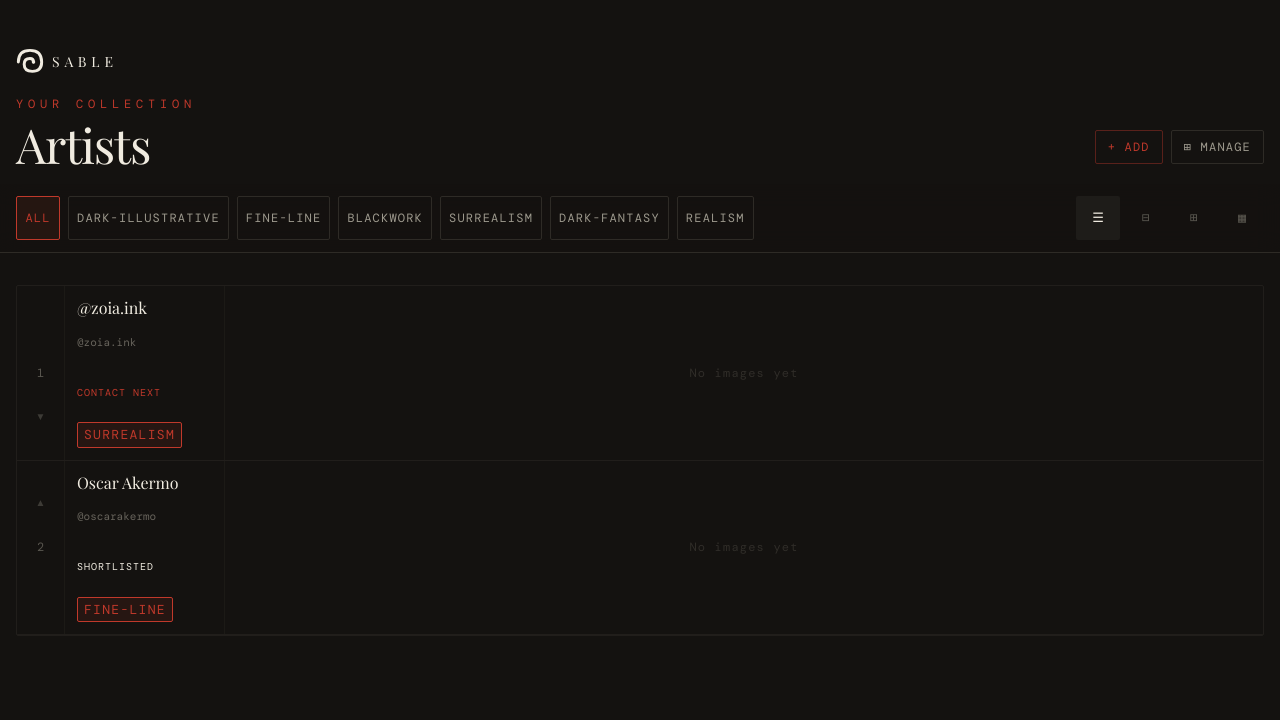
Test: Gallery manage mode › toggles the add-artist form and maintenance table
Expected: the text "Add New Artist" is not shown
Step 1. Click the button "⊞ Manage" → (1217, 147), box [1171,130,1264,164]
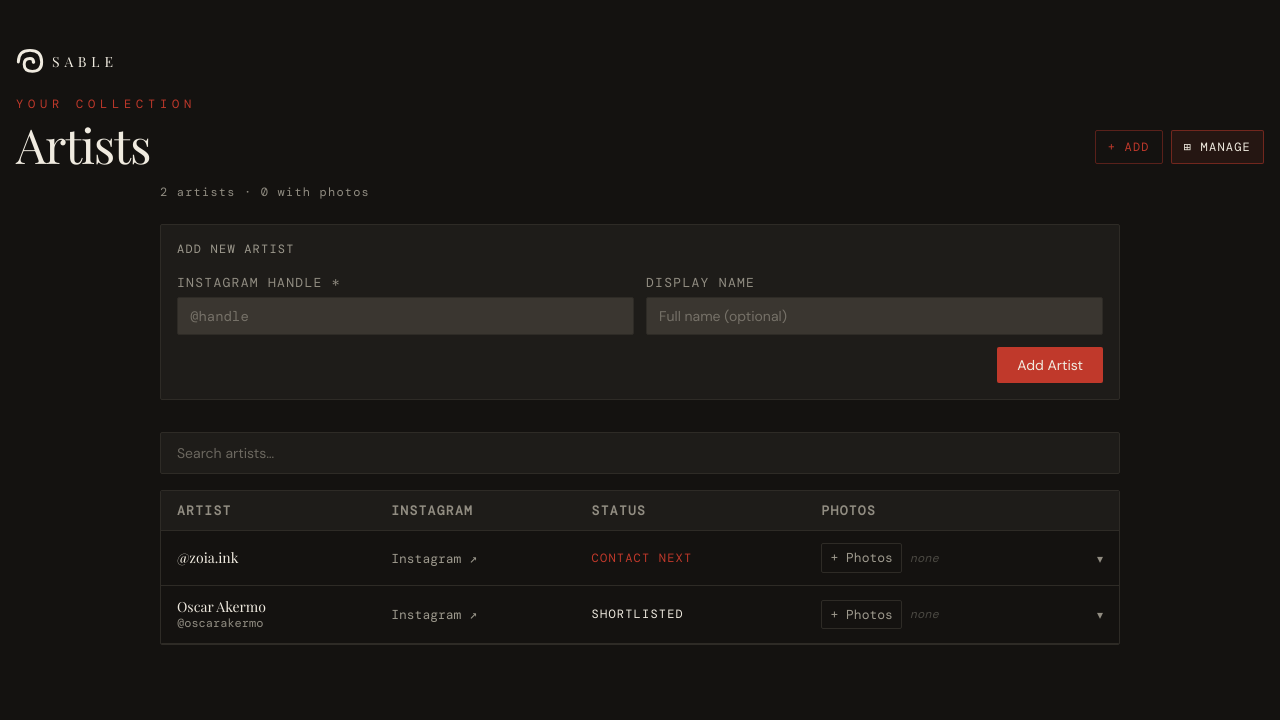
Now the text "Add New Artist" is shown, box [177,241,295,257]
Now the field with placeholder "Search artists…" is shown, box [160,432,1120,474]
Step 2. Click the button "⊞ Manage" → (1217, 147), box [1171,130,1264,164]
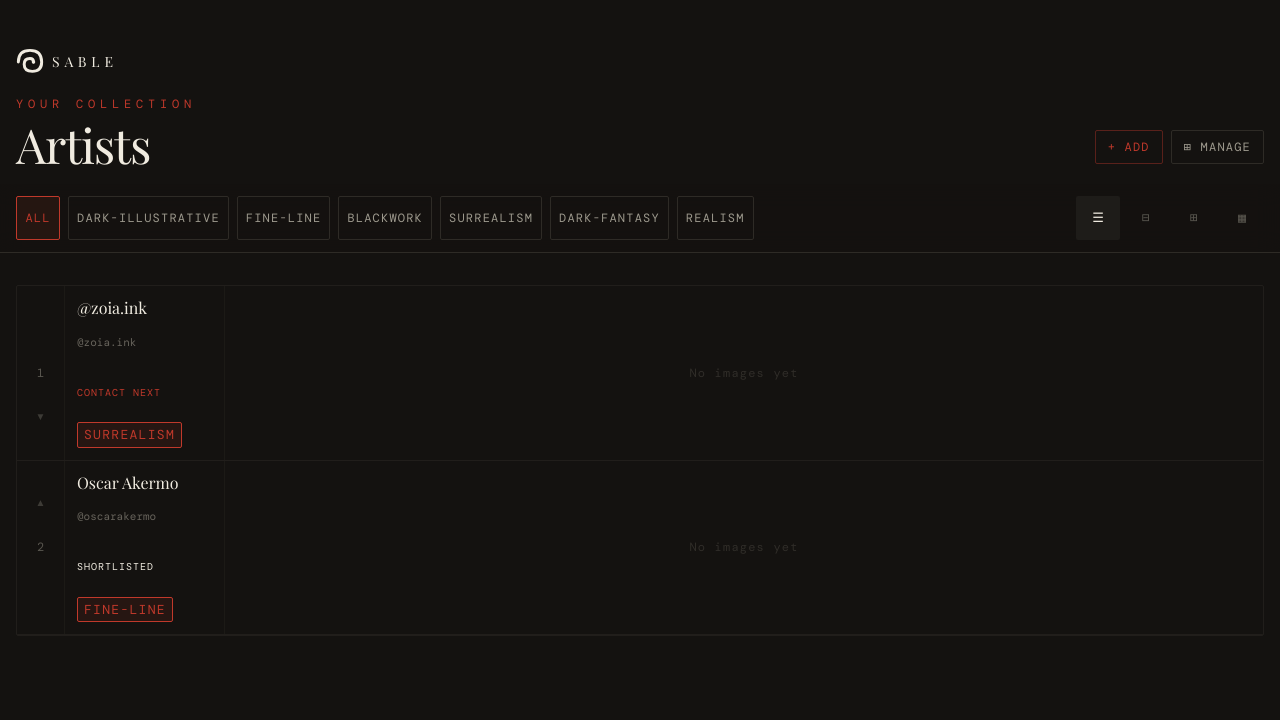
Now the text "Add New Artist" is gone
